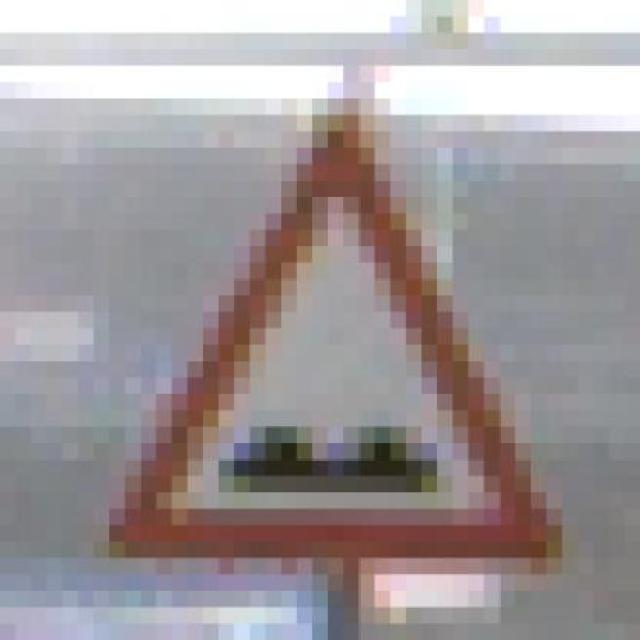Uneven Road: (93, 98, 578, 574)
